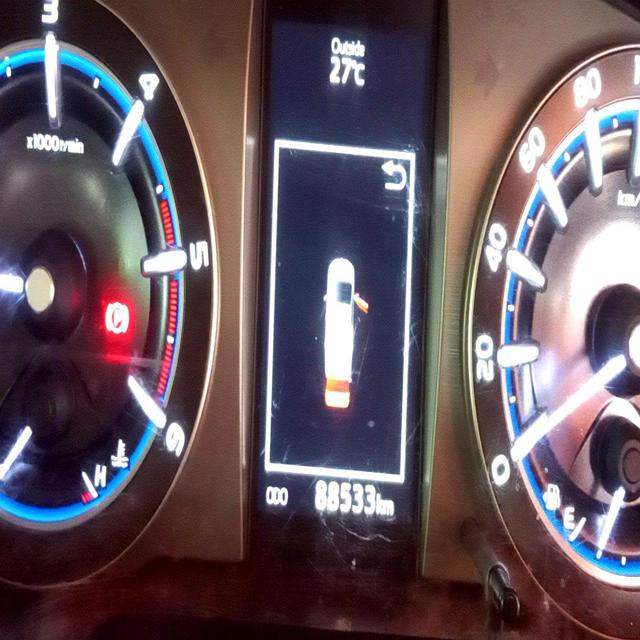odometer: (312, 475, 379, 518)
